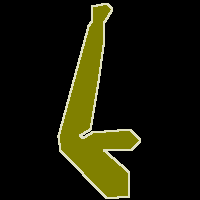tie: (58, 3, 140, 198)
